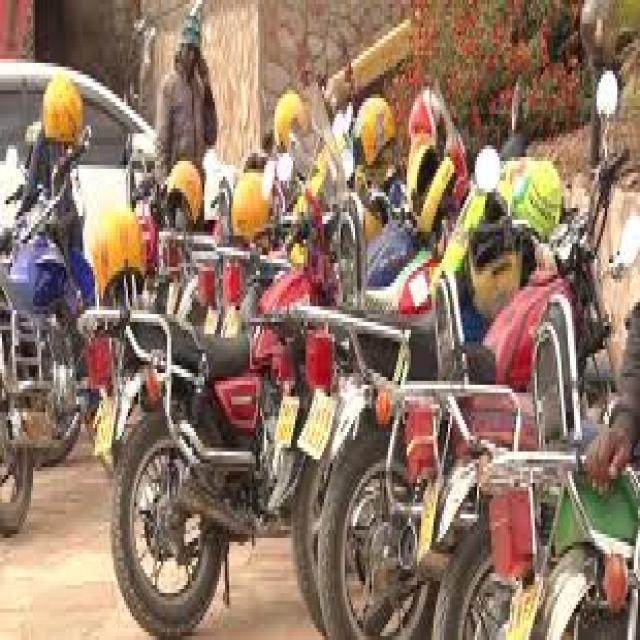bodaboda: (302, 50, 632, 635), (1, 22, 100, 572)
